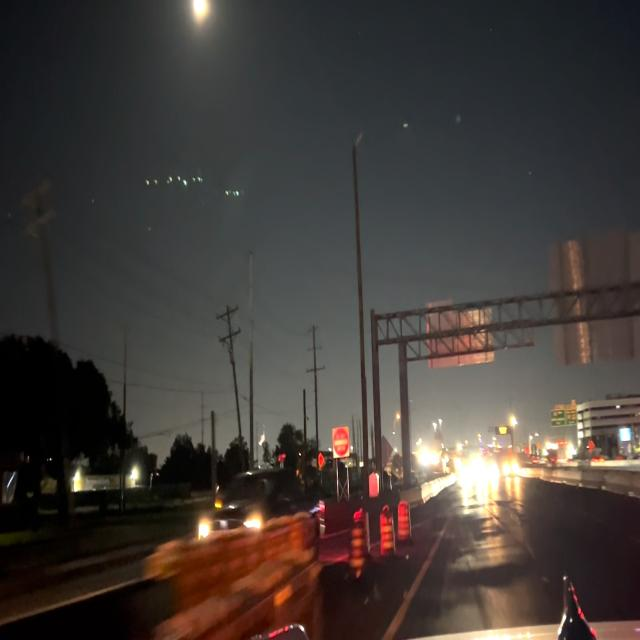back-of-sign: (551, 233, 640, 367), (425, 297, 495, 368)
